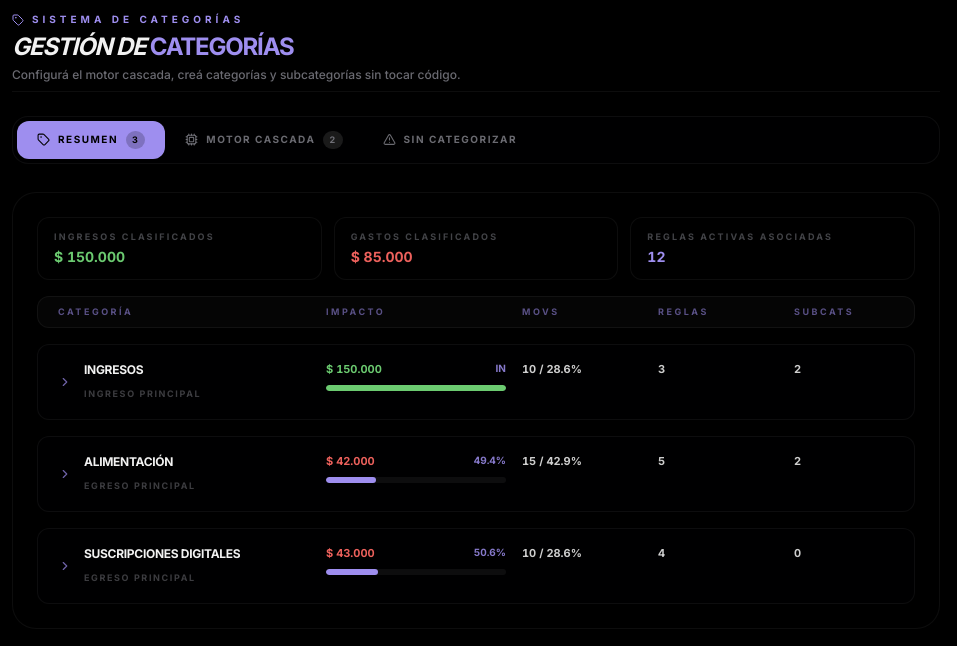
Scenario: CategoriasPage › cambia al contenido del Motor Cascada al hacer click en ese tab
What coordinates should you click on to do the following:
click the button "Motor Cascada 2"
I would click on:
 (264, 140)
Its box is x1=165 y1=121 x2=362 y2=158.
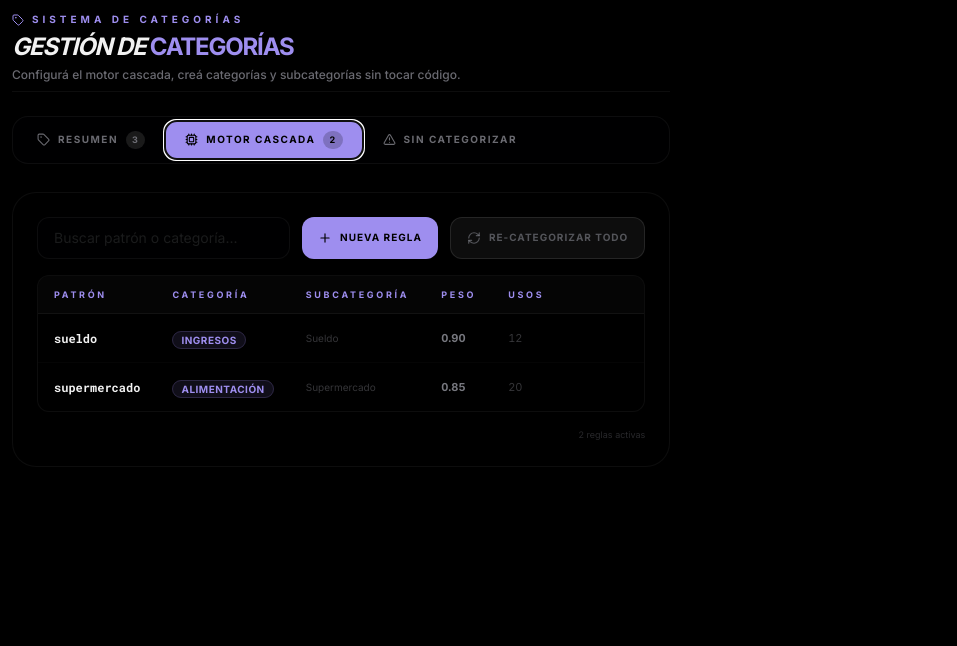
Result: the field with placeholder "Buscar patrón o categoría..." is shown at x1=37 y1=216 x2=290 y2=258
